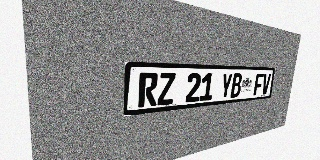1: (199, 73, 214, 101)
2: (185, 73, 202, 103)
B: (230, 73, 243, 98)
F: (253, 73, 264, 95)
R: (138, 72, 158, 108)
V: (261, 73, 271, 95)
Y: (220, 73, 233, 99)
Z: (157, 73, 176, 106)
